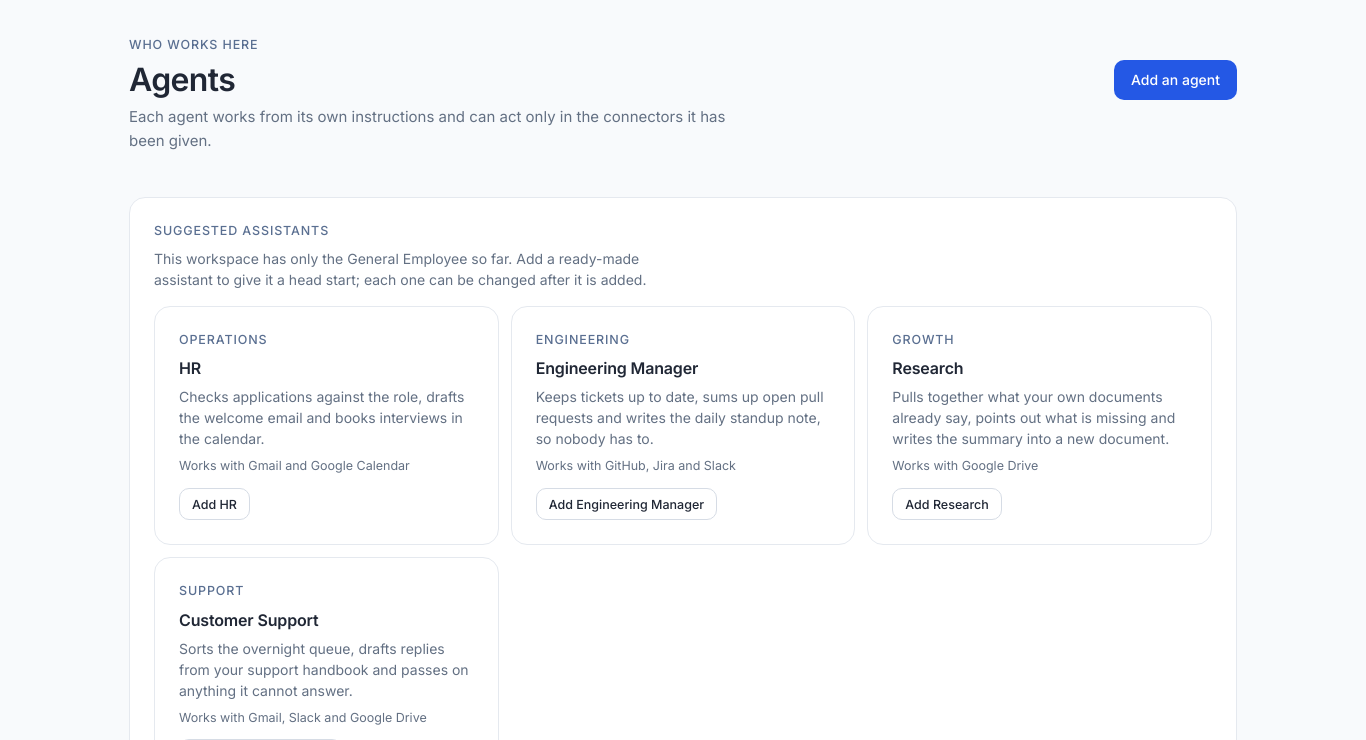
Scenario: the Add an agent dialog › adds a ready-made assistant from the dialog, closes it, and shows what is still to do
This screenshot has width=1366, height=740.
Click the button "Add an agent" at (1176, 80), box [1114,60,1237,100]
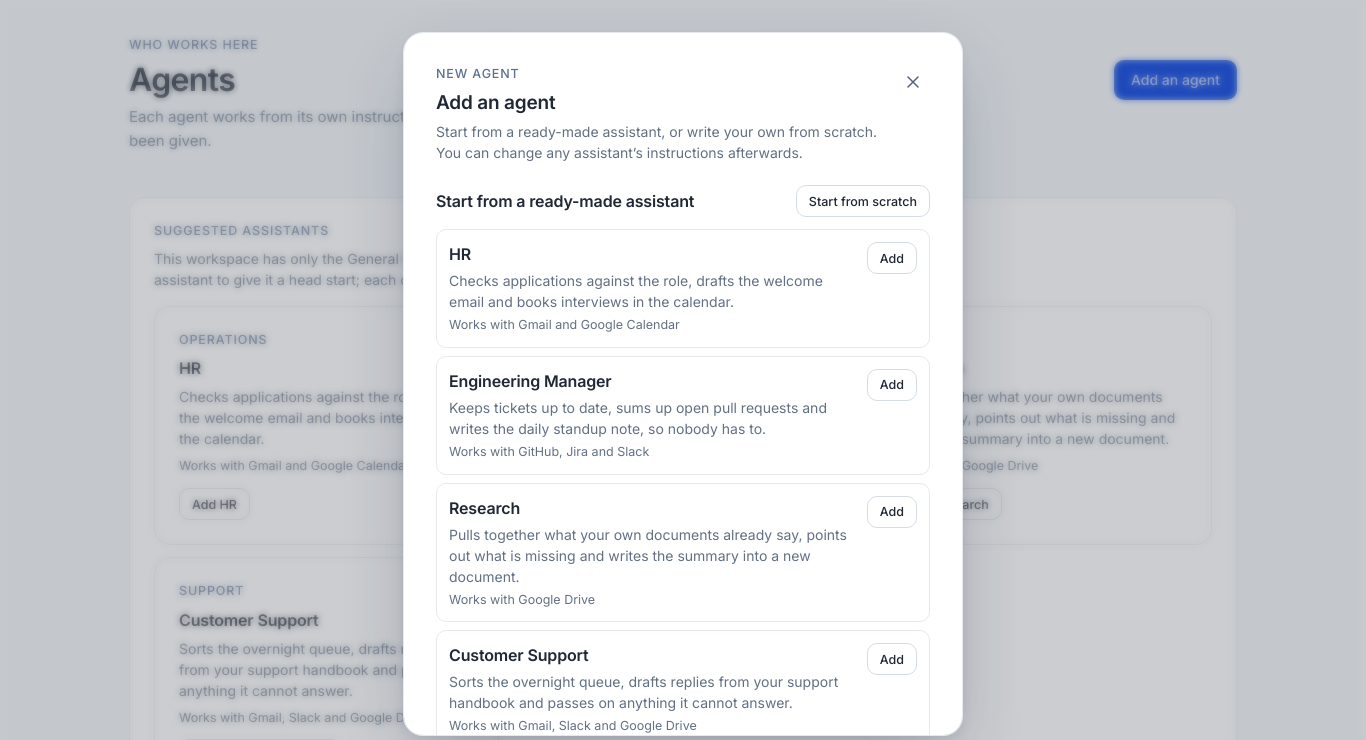
Click the button with aria-label "Add the HR assistant" at (892, 258), box [867,242,917,274]
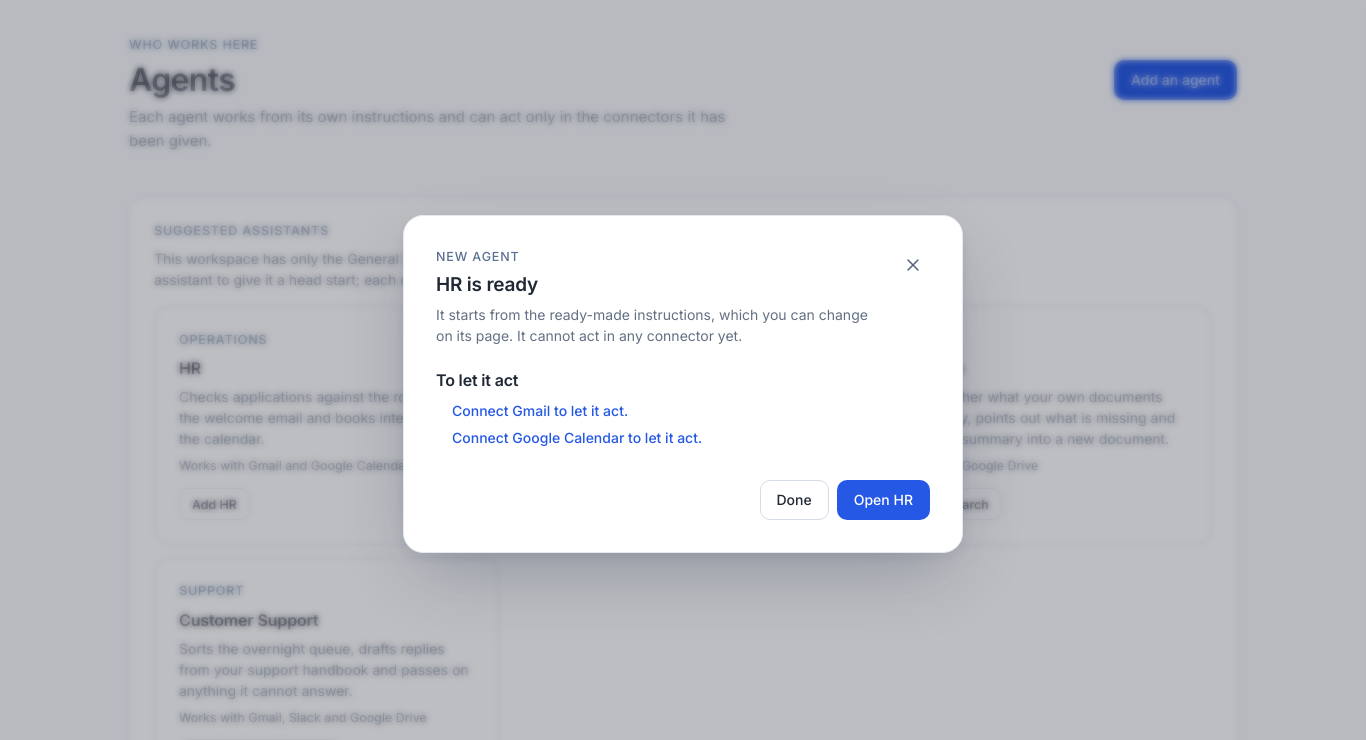
Result: the dialog "HR is ready" is shown at [403,215,963,553]
